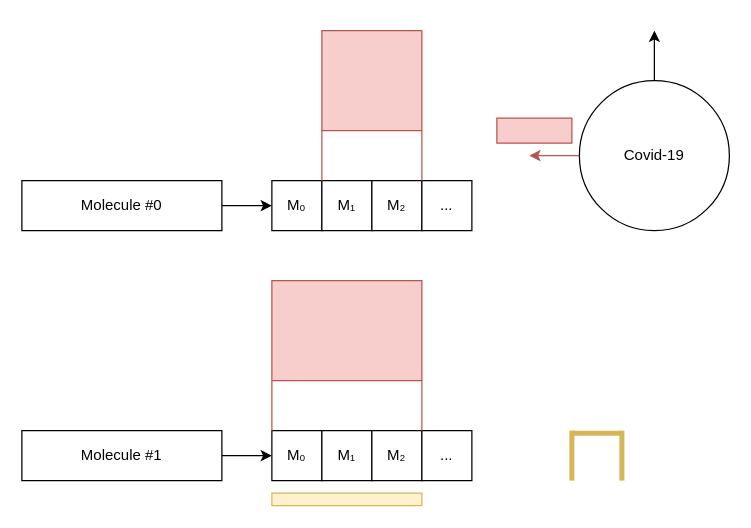
This 751x528 diagram has some shape labels left out. Here are the shapes that lost their labels. From the top down, the centre of each, then its label:
the point at 371,80: Run-Length Encoding (1..2)
the point at 534,130: One view
the point at 346,330: Run-Length Encoding (0..2)
